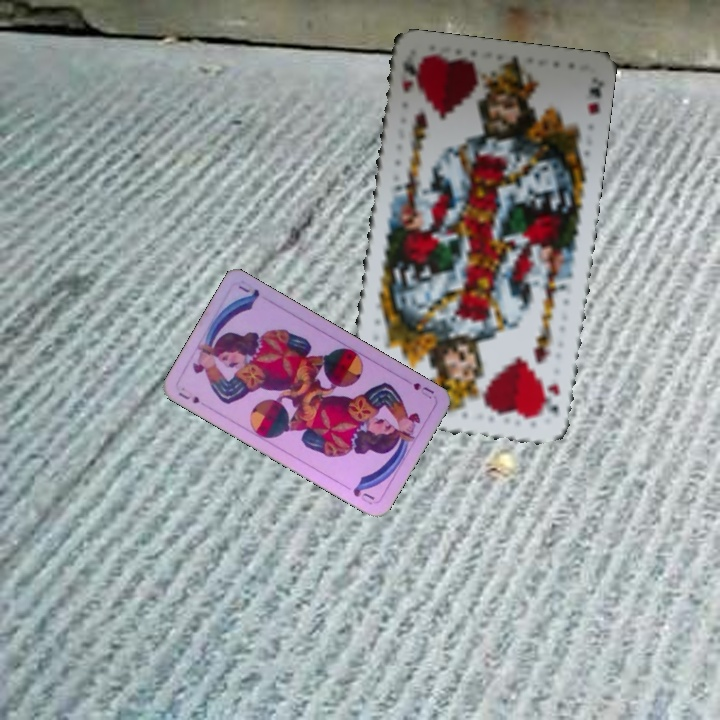HK: (397, 53, 422, 96), (538, 379, 563, 419)
SU: (409, 378, 437, 402), (174, 388, 202, 406)
